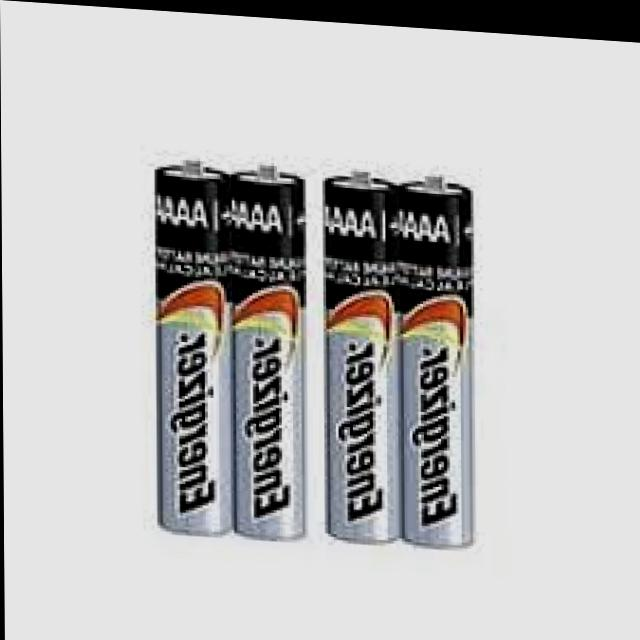B3: (118, 136, 489, 585)
